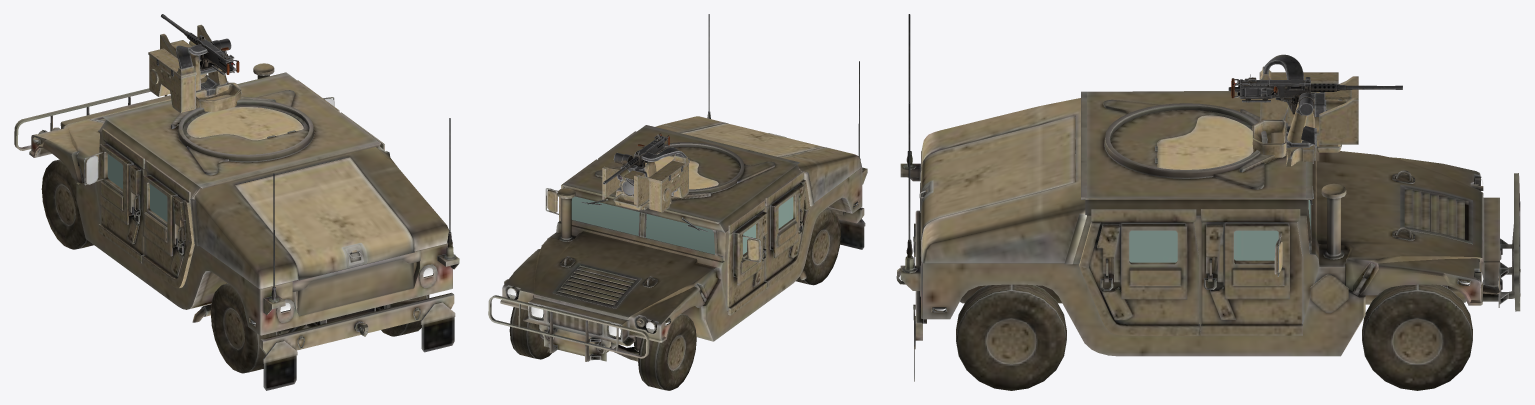
The model's file is humvee_sand.glb.
3 renders of one model, left to right at view 1: azimuth 30°, elevation 25°; view 2: azimuth 150°, elevation 25°; view 3: azimuth 270°, elevation 25°, orthographic. The views are drawn at different scales.
Visible parts, largest first — view 1: humvee_sand_body; view 2: humvee_sand_body; view 3: humvee_sand_body.
Part boxes in pixels (<box>): humvee_sand_body: <box>14,14,459,390</box>; humvee_sand_body: <box>488,14,867,390</box>; humvee_sand_body: <box>896,14,1520,390</box>.
Bounding box in the file's own units: 2.73 × 2.51 × 4.9.
Materials: 36 (35 with a texture image).
